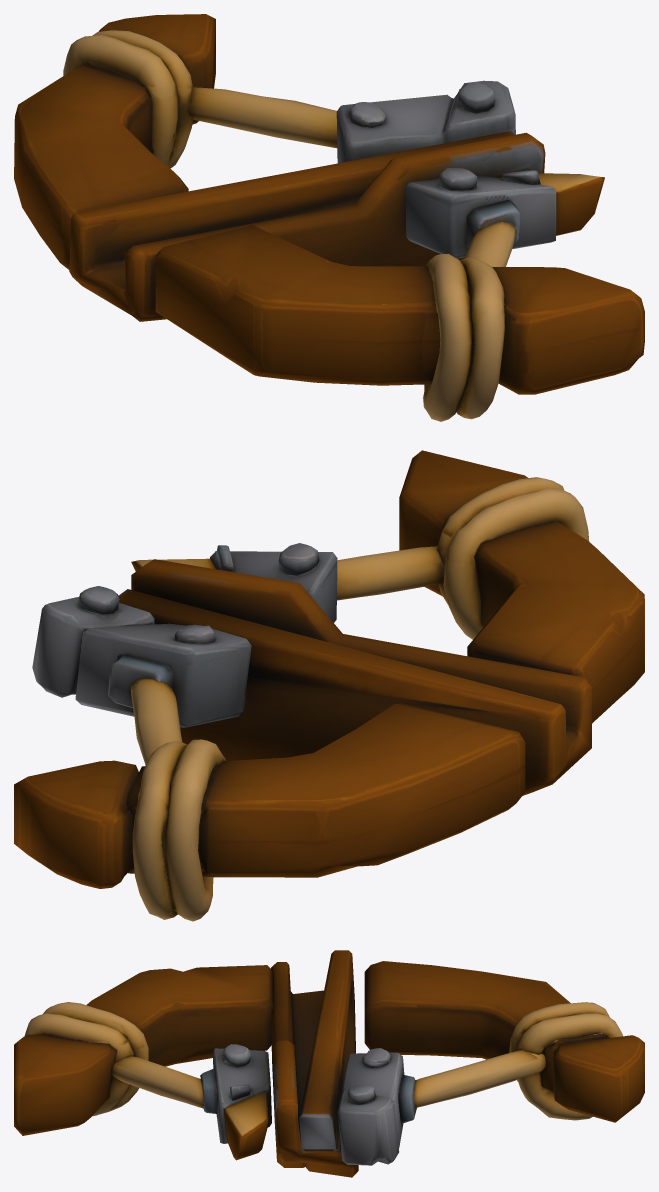
Rendered from X-Bow.fbx.
3 renders of one model, top to bottom at view 1: azimuth 30°, elevation 25°; view 2: azimuth 150°, elevation 25°; view 3: azimuth 270°, elevation 25°, orthographic. The views are drawn at different scales.
Parts seen in each view (by area): view 1: tripo_node_ad11fc16; view 2: tripo_node_ad11fc16; view 3: tripo_node_ad11fc16.
Boxes of the visible parts, bbox=[...] form: tripo_node_ad11fc16: bbox=[14, 14, 644, 421]; tripo_node_ad11fc16: bbox=[14, 450, 644, 921]; tripo_node_ad11fc16: bbox=[14, 950, 644, 1177].
Size of the model in its own units: 63.87 by 99.8 by 20.12.
Materials: 1 (1 with a texture image).
